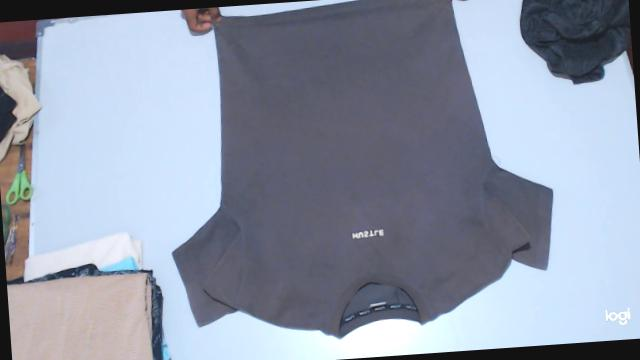new-garment: (174, 0, 551, 336)
